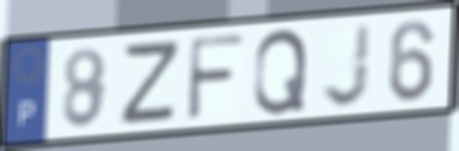6: (385, 17, 438, 105)
8: (59, 45, 109, 130)
F: (184, 32, 247, 123)
J: (319, 20, 375, 111)
Q: (250, 26, 310, 118)
Z: (116, 37, 184, 128)
